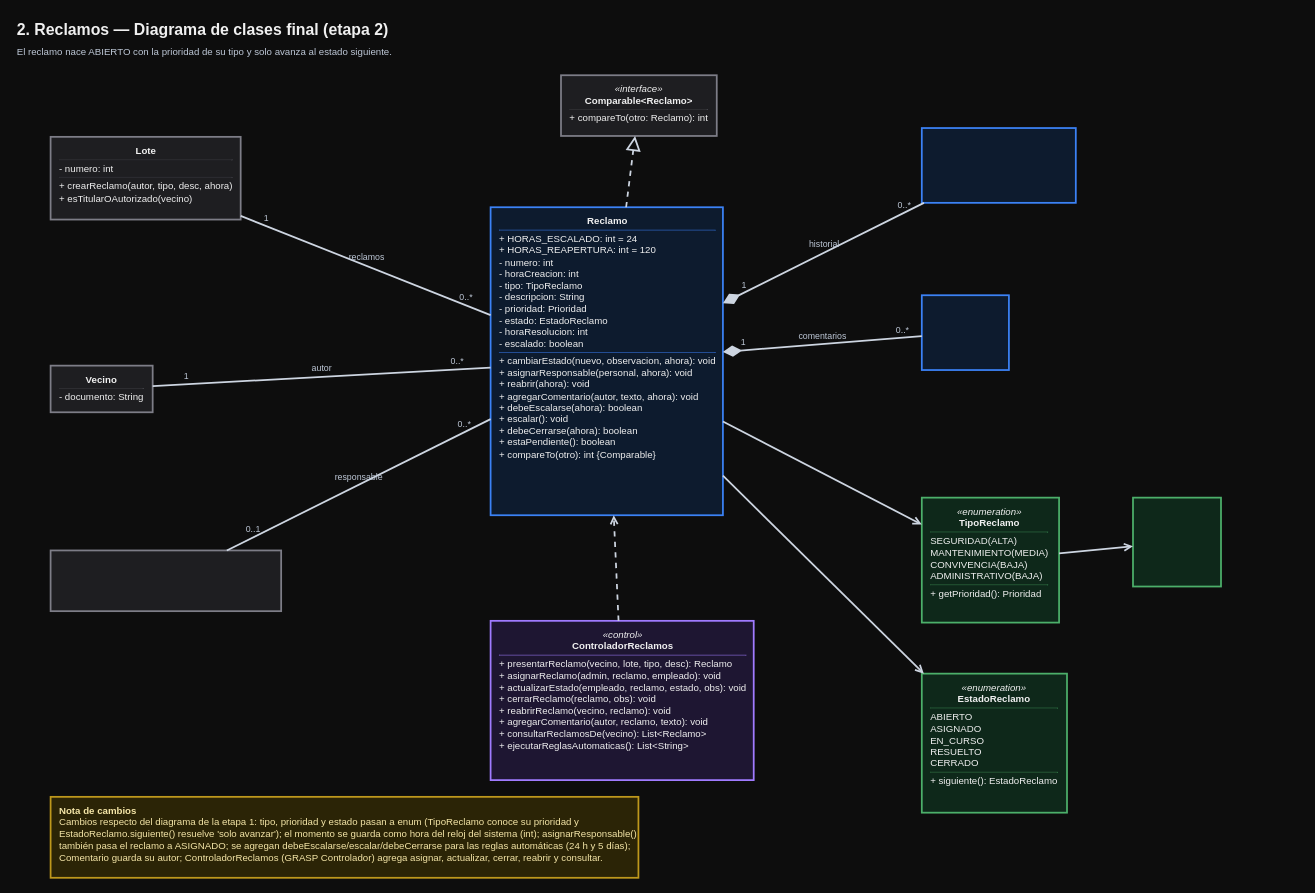
This 1315x893 diagram has some shape labels left out. The box of each missing label's shape, as (x1, y1, x2, y2) in pixels:
CambioEstado - hora: int - nuevoEstado: EstadoReclamo - observacion: String: (920, 127, 1076, 203)
Comentario - hora: int - autor: Persona - texto: String: (920, 294, 1009, 370)
«abstract» Personal + actualizarReclamo(reclamo, estado, obs, ahora): (49, 549, 282, 612)
«enumeration» Prioridad ALTA MEDIA BAJA: (1132, 496, 1221, 587)
